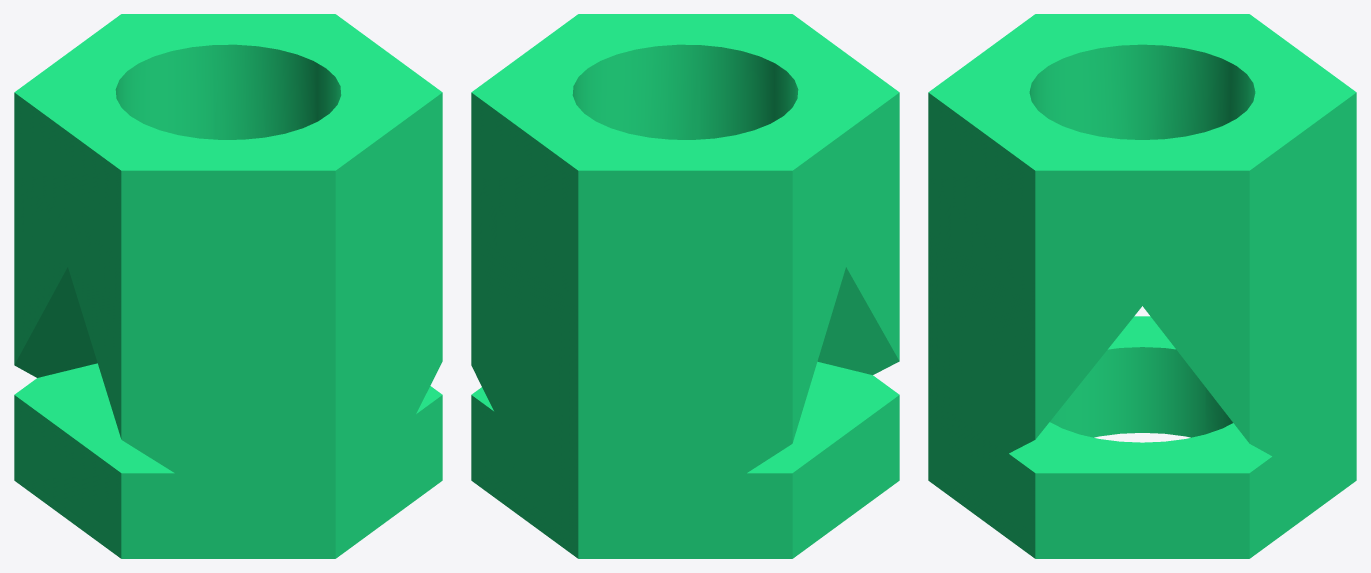
Rendered from var_6.glb.
3 renders of one model, left to right at view 1: azimuth 30°, elevation 25°; view 2: azimuth 150°, elevation 25°; view 3: azimuth 270°, elevation 25°, orthographic.
Visible parts, largest first — view 1: Cylinder.004; view 2: Cylinder.004; view 3: Cylinder.004.
Boxes of the visible parts, x1=… form: Cylinder.004: x1=14, y1=14, x2=442, y2=558; Cylinder.004: x1=471, y1=14, x2=899, y2=558; Cylinder.004: x1=928, y1=14, x2=1356, y2=558.
Size of the model in its own units: 1.73 by 2 by 2.
